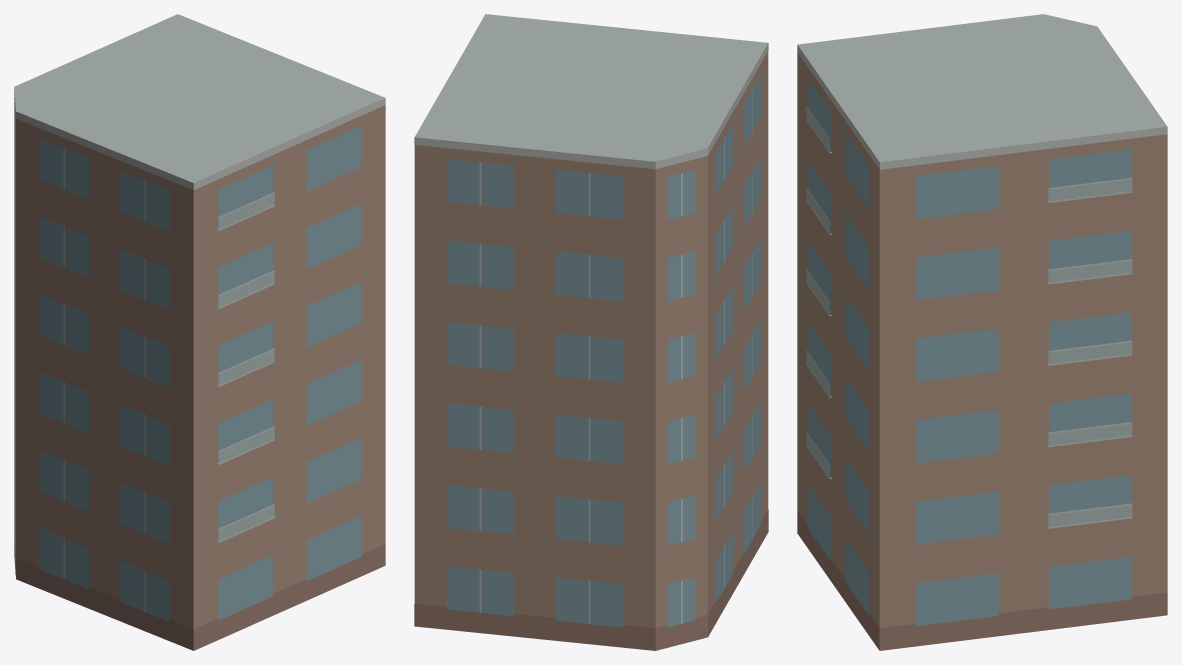
Rendered from survey-upis-33040074.glb.
3 renders of one model, left to right at view 1: azimuth 30°, elevation 25°; view 2: azimuth 150°, elevation 25°; view 3: azimuth 270°, elevation 25°, orthographic. The views are drawn at different scales.
Visible parts, largest first — view 1: survey-upis-33040074.tmp; view 2: survey-upis-33040074.tmp; view 3: survey-upis-33040074.tmp.
Boxes of the visible parts, x1,y1,x2,y2 form: survey-upis-33040074.tmp: (14,14,385,650); survey-upis-33040074.tmp: (414,14,768,650); survey-upis-33040074.tmp: (797,14,1167,650).
Size of the model in its own units: 10.43 by 16 by 11.
